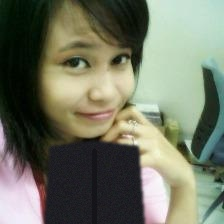Cadar_Niqab: (44, 85, 144, 224)
